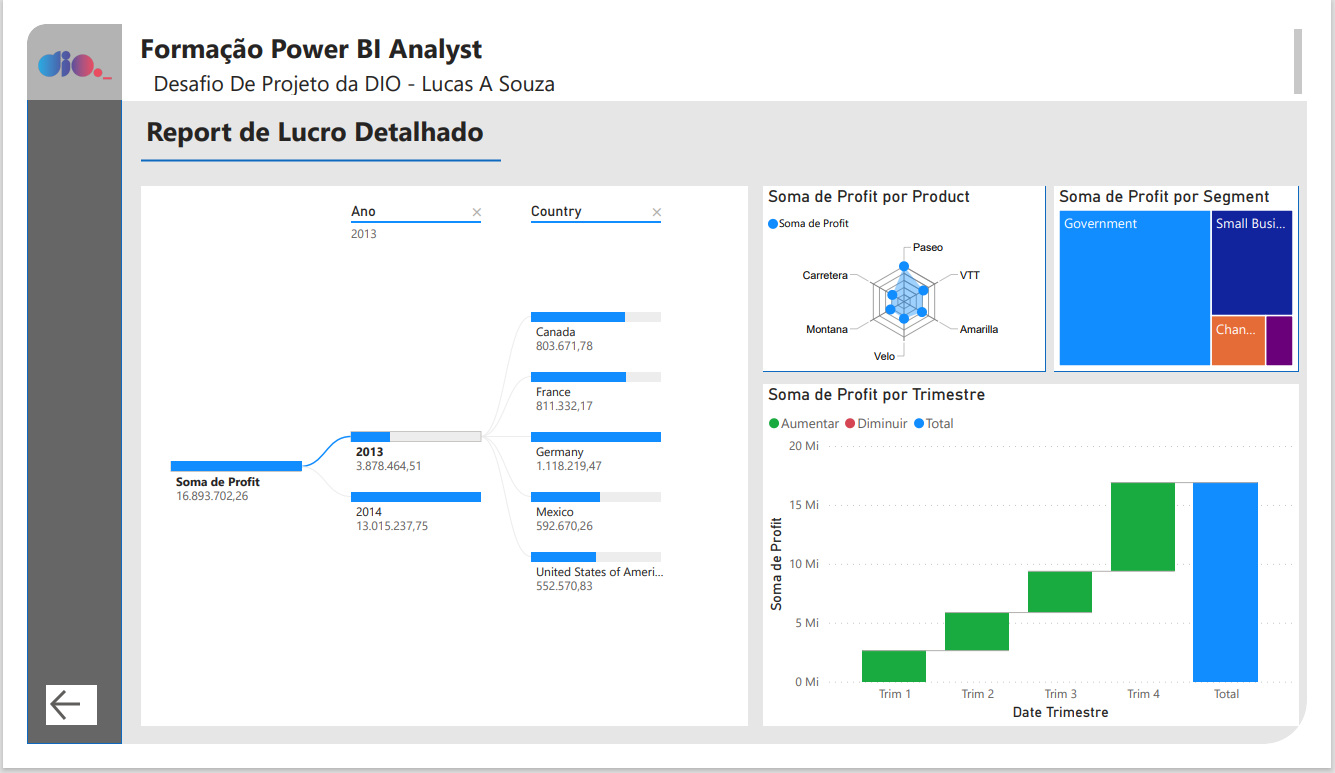

Layout of this report page (visuals, bound fields, positions):
{"tool":"powerbi","page":{"name":"Página 2","canvas":[1280,720],"ordinal":1},"visuals":[{"type":"shape","box":[9.7,0,1270.3,720.2],"z":0},{"type":"shape","box":[113.9,131.5,360.2,10.8],"z":0,"group":"g1"},{"type":"shape","box":[0,0,95.2,720.5],"z":1000},{"type":"textbox","box":[113.9,83.4,361.2,46.1],"z":1000,"group":"g1"},{"type":"shape","box":[0,0,95.2,75.6],"z":2000},{"type":"image","box":[0,0,95.2,83.4],"z":3000},{"type":"actionButton","title":"Botão - Voltar","box":[18.7,660.6,50.1,40.2],"z":4000},{"type":"textbox","box":[95.2,0,1184.8,75.6],"z":5000},{"type":"group","id":"g1","title":"Título","box":[113.9,83.4,361.2,58.9],"z":6000},{"type":"shape","box":[113.9,162,606.6,46.1],"z":7000},{"type":"shape","box":[113.9,216.9,606.6,483.9],"z":8000},{"type":"shape","box":[736.2,162,281.7,185.5],"z":9000},{"type":"shape","box":[1026.7,162,244.4,185.5],"z":10000},{"type":"shape","box":[736.2,360.2,535,340.6],"z":11000},{"type":"textbox","box":[113.9,216.9,606.6,483.9],"z":12000},{"type":"treemap","fields":{"Values":["Sum(financials.Profit)"],"Group":["financials.Segment"]},"box":[1026.7,162,244.4,185.5],"z":13000},{"type":"waterfallChart","fields":{"Y":["Sum(financials.Profit)"],"Category":["financials.Date.Variation.Hierarquia de datas.Trimestre"]},"box":[736.2,360.2,535,340.6],"z":14000},{"type":"decompositionTreeVisual","fields":{"ExplainBy":["financials.Date.Variation.Hierarquia de datas.Ano","financials.Country"],"Analyze":["Sum(financials.Profit)"]},"box":[113.9,162,606.6,538.9],"z":15000},{"type":"RadarChart1446119667547","fields":{"Y":["Sum(financials.Profit)"],"Category":["financials.Product"]},"box":[736.2,162,281.7,185.5],"z":16000}]}

Visuals, with their boxes on the page's 1280x720 design canvas (x1, y1, x2, y2). These are canvas units, not pixel positions in the 1335x773 screenshot, which may show the page scaled, cropped or inside an application window:
shape: pyautogui.locateOnScreen(10, 0, 1280, 720)
shape: pyautogui.locateOnScreen(114, 132, 474, 142)
shape: pyautogui.locateOnScreen(0, 0, 95, 720)
textbox: pyautogui.locateOnScreen(114, 83, 475, 130)
shape: pyautogui.locateOnScreen(0, 0, 95, 76)
image: pyautogui.locateOnScreen(0, 0, 95, 83)
"Botão - Voltar" actionButton: pyautogui.locateOnScreen(19, 661, 69, 701)
textbox: pyautogui.locateOnScreen(95, 0, 1280, 76)
"Título" group: pyautogui.locateOnScreen(114, 83, 475, 142)
shape: pyautogui.locateOnScreen(114, 162, 720, 208)
shape: pyautogui.locateOnScreen(114, 217, 720, 701)
shape: pyautogui.locateOnScreen(736, 162, 1018, 348)
shape: pyautogui.locateOnScreen(1027, 162, 1271, 348)
shape: pyautogui.locateOnScreen(736, 360, 1271, 701)
textbox: pyautogui.locateOnScreen(114, 217, 720, 701)
treemap - Sum(financials.Profit) x financials.Segment: pyautogui.locateOnScreen(1027, 162, 1271, 348)
waterfallChart - Sum(financials.Profit) x financials.Date.Variation.Hierarquia de datas.Trimestre: pyautogui.locateOnScreen(736, 360, 1271, 701)
decompositionTreeVisual - financials.Date.Variation.Hierarquia de datas.Ano x financials.Country: pyautogui.locateOnScreen(114, 162, 720, 701)
RadarChart1446119667547 - Sum(financials.Profit) x financials.Product: pyautogui.locateOnScreen(736, 162, 1018, 348)
